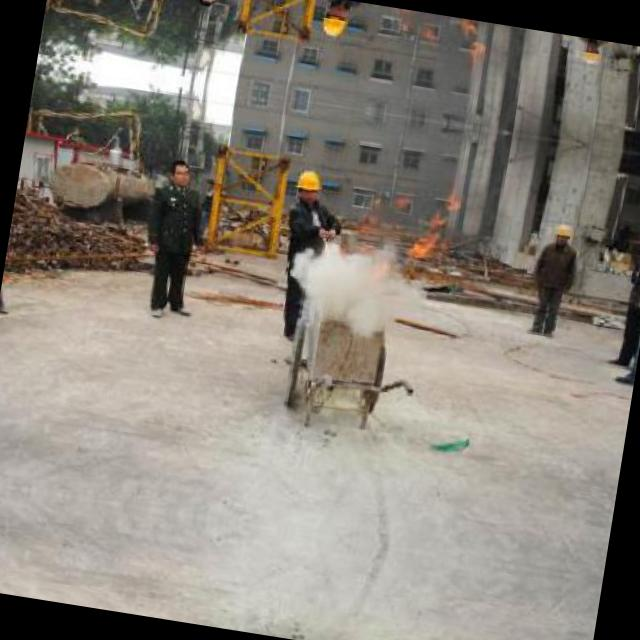helmet: (319, 2, 350, 41), (294, 163, 324, 202), (553, 218, 573, 244), (581, 42, 601, 67)
